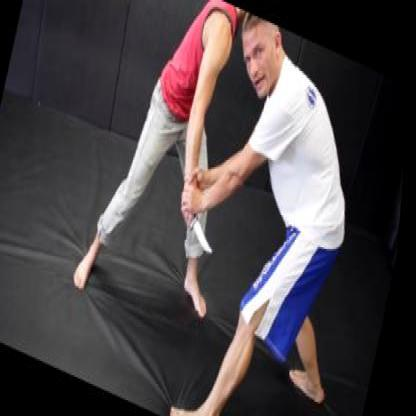knife: (174, 198, 226, 259)
